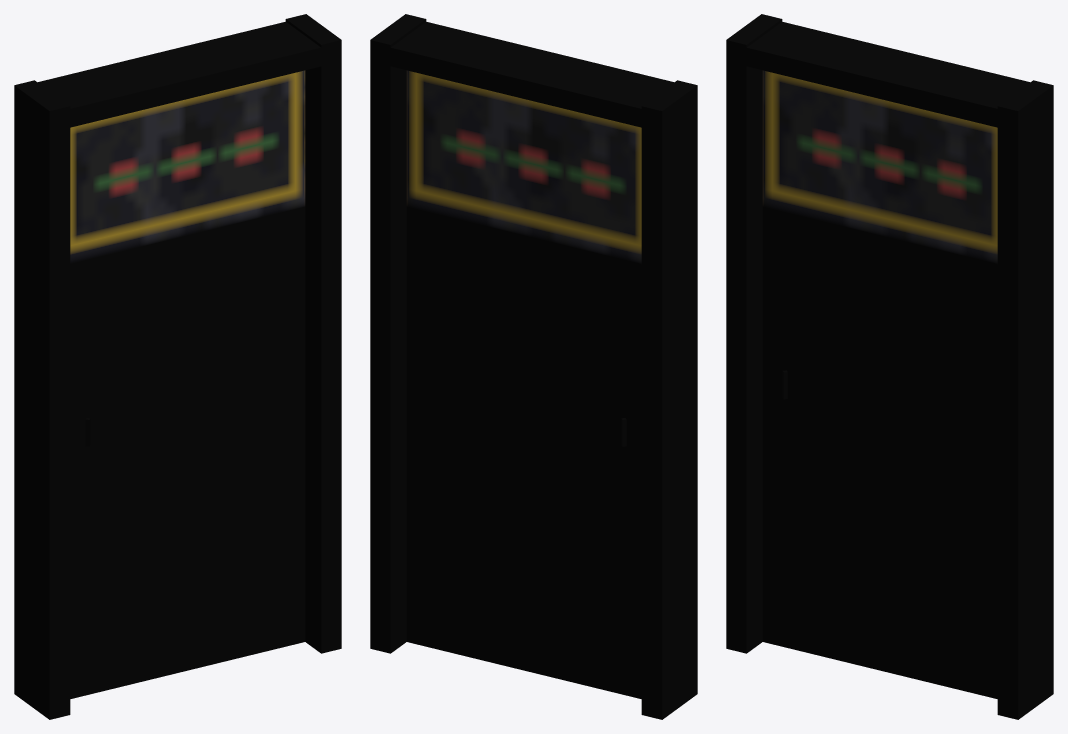
The model's file is SM_door_cellar.fbx.
3 views of the same model, side by side, from view 1: azimuth 30°, elevation 25°; view 2: azimuth 150°, elevation 25°; view 3: azimuth 330°, elevation 25° (orthographic).
Parts seen in each view (by area): view 1: door_cellar_leaf, door_cellar_casing_r, door_cellar, door_cellar_casing_top; view 2: door_cellar_leaf, door_cellar_casing_r, door_cellar, door_cellar_casing_top; view 3: door_cellar_leaf, door_cellar, door_cellar_casing_r, door_cellar_casing_top.
Part boxes in pixels (x1,y1,x2,y2): door_cellar_leaf: (70, 70, 305, 698); door_cellar_casing_r: (14, 80, 70, 719); door_cellar: (285, 14, 341, 653); door_cellar_casing_top: (38, 21, 326, 128); door_cellar_leaf: (406, 70, 641, 698); door_cellar_casing_r: (641, 80, 697, 719); door_cellar: (370, 14, 426, 653); door_cellar_casing_top: (385, 21, 673, 128); door_cellar_leaf: (762, 70, 997, 698); door_cellar: (997, 80, 1053, 719); door_cellar_casing_r: (726, 14, 782, 653); door_cellar_casing_top: (741, 21, 1029, 128).
Size of the model in its own units: 1.14 by 2.27 by 0.24.
